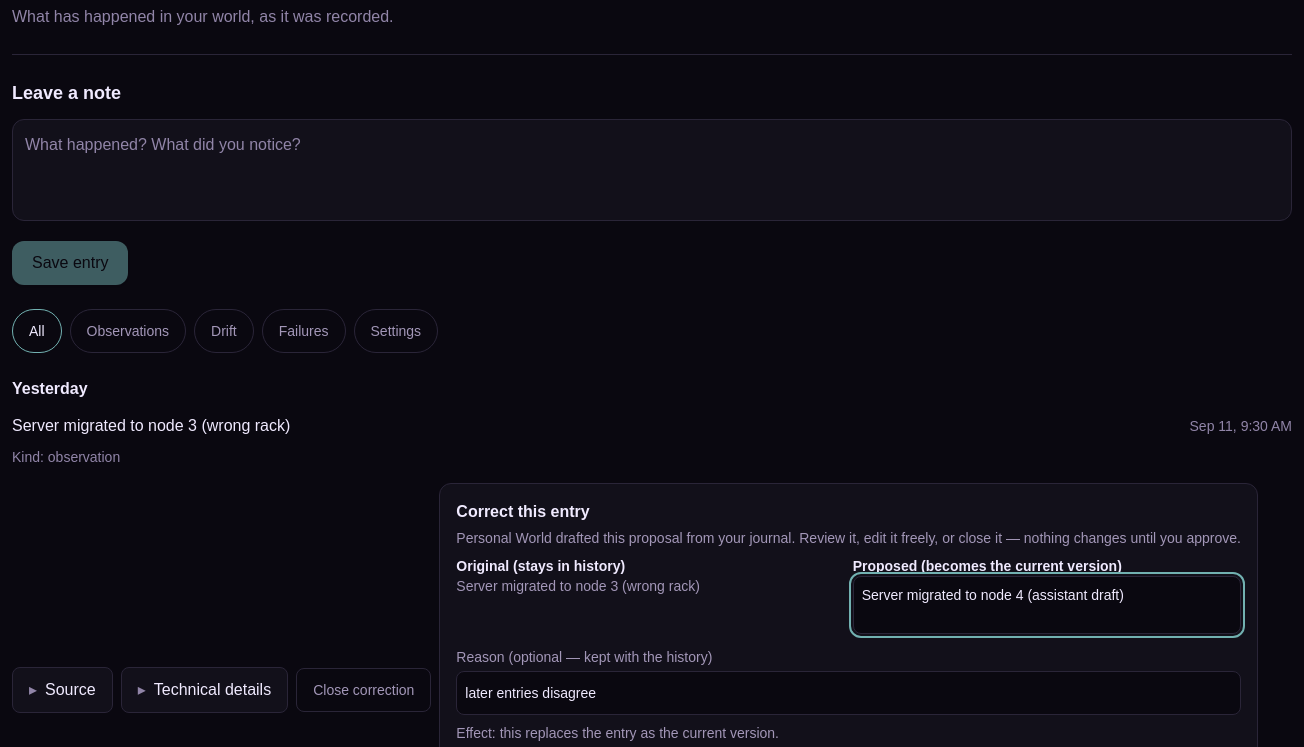
Test: Journal assistant-drafted correction handoff (drafting is not acting) › the person edits the draft freely, then approves through the existing path
The width and height of the screenshot is (1304, 747).
Expected: the text "Personal World drafted this proposal" is shown, [456,530,1241,546]
Replace the text in the text box showing "Server migrated to node 4 (assistant draft)" with "Server migrated to node 4 (edited)". click: (1047, 605)
box: [853,576,1241,634]
(page scrolled)
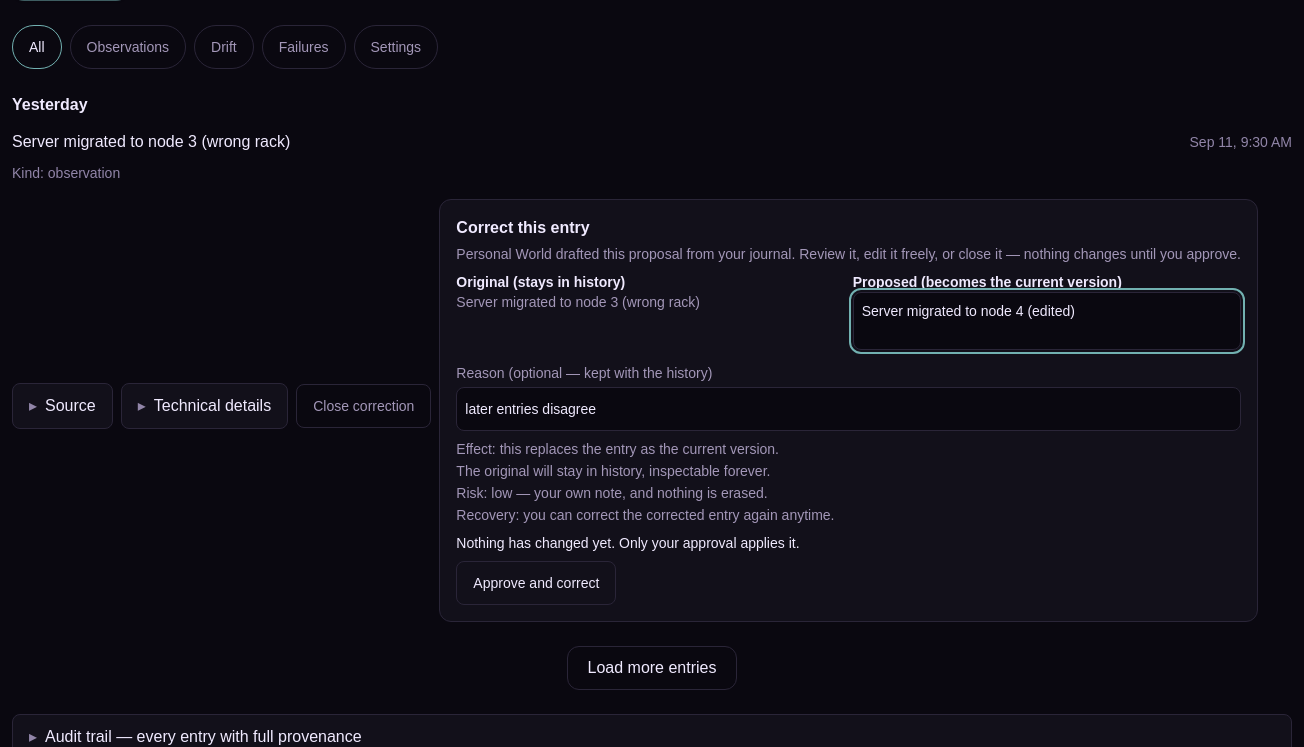
Click the button "Approve and correct". click: (536, 583)
box: [456,561,616,605]
(page scrolled)
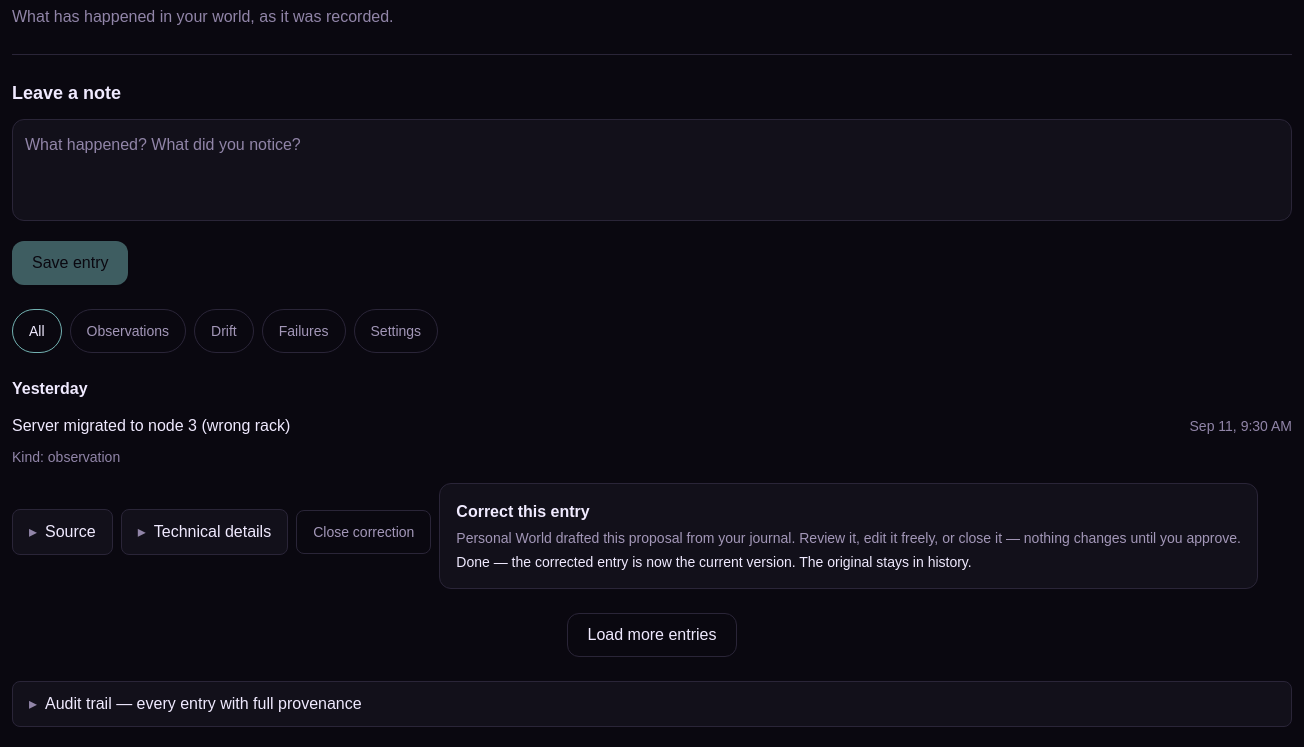
Result: the text "Done — the corrected entry" is shown at [456,554,972,570]
